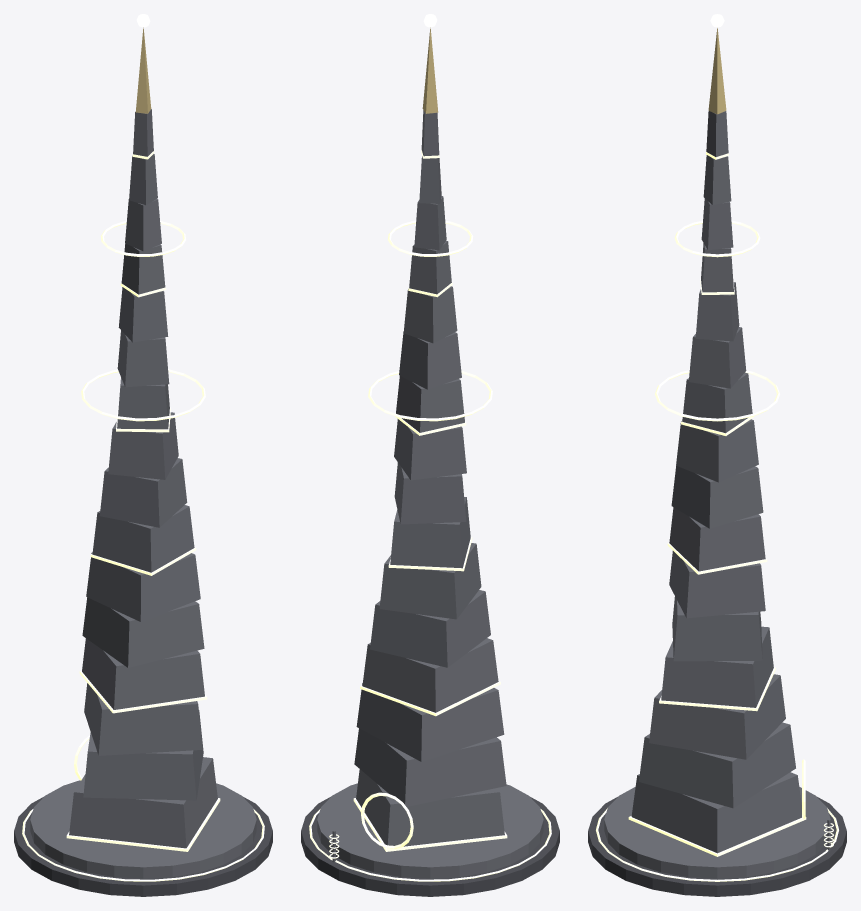
The model's file is zone_high_4_t5.glb.
The picture shows the model from 3 angles, left to right: view 1: azimuth 30°, elevation 25°; view 2: azimuth 150°, elevation 25°; view 3: azimuth 270°, elevation 25°; orthographic projection.
Parts seen in each view (by area): view 1: zone_high_4_t5; view 2: zone_high_4_t5; view 3: zone_high_4_t5.
Part boxes in pixels (x1,y1,x2,y2): zone_high_4_t5: (14,14,272,896); zone_high_4_t5: (301,14,559,896); zone_high_4_t5: (588,14,846,896).
Size of the model in its own units: 28.8 by 102 by 28.8.
